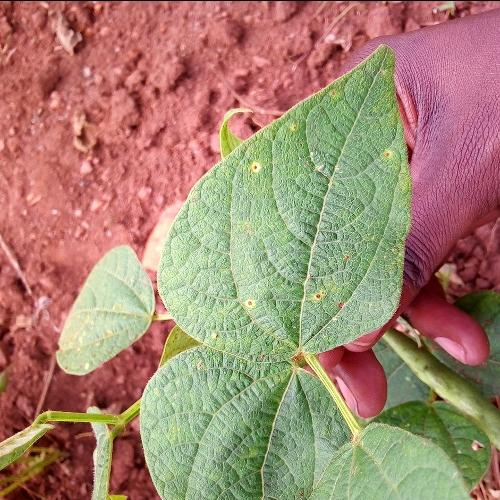mozaik: (203, 182, 384, 337), (156, 375, 303, 500)
